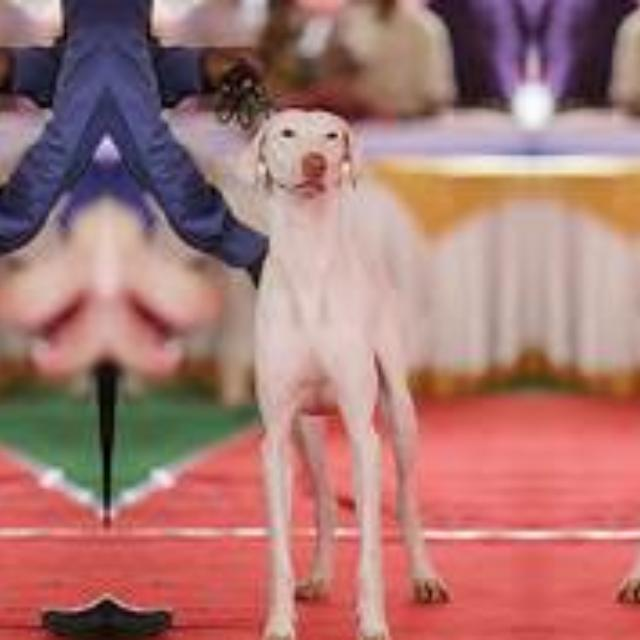dog: (194, 85, 486, 640), (579, 85, 640, 640), (0, 85, 18, 640)
